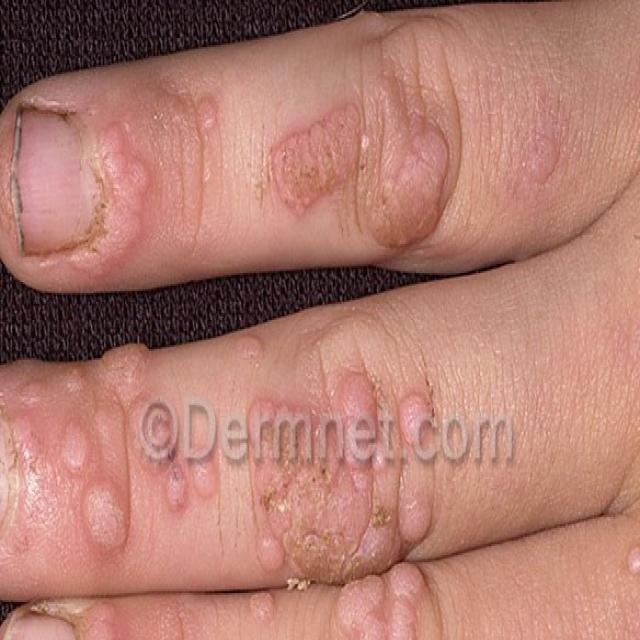Warts: (243, 332, 456, 570), (259, 75, 504, 265), (16, 339, 223, 556), (72, 126, 159, 260), (244, 593, 456, 640), (80, 587, 132, 640), (527, 127, 574, 181), (188, 86, 218, 138)
